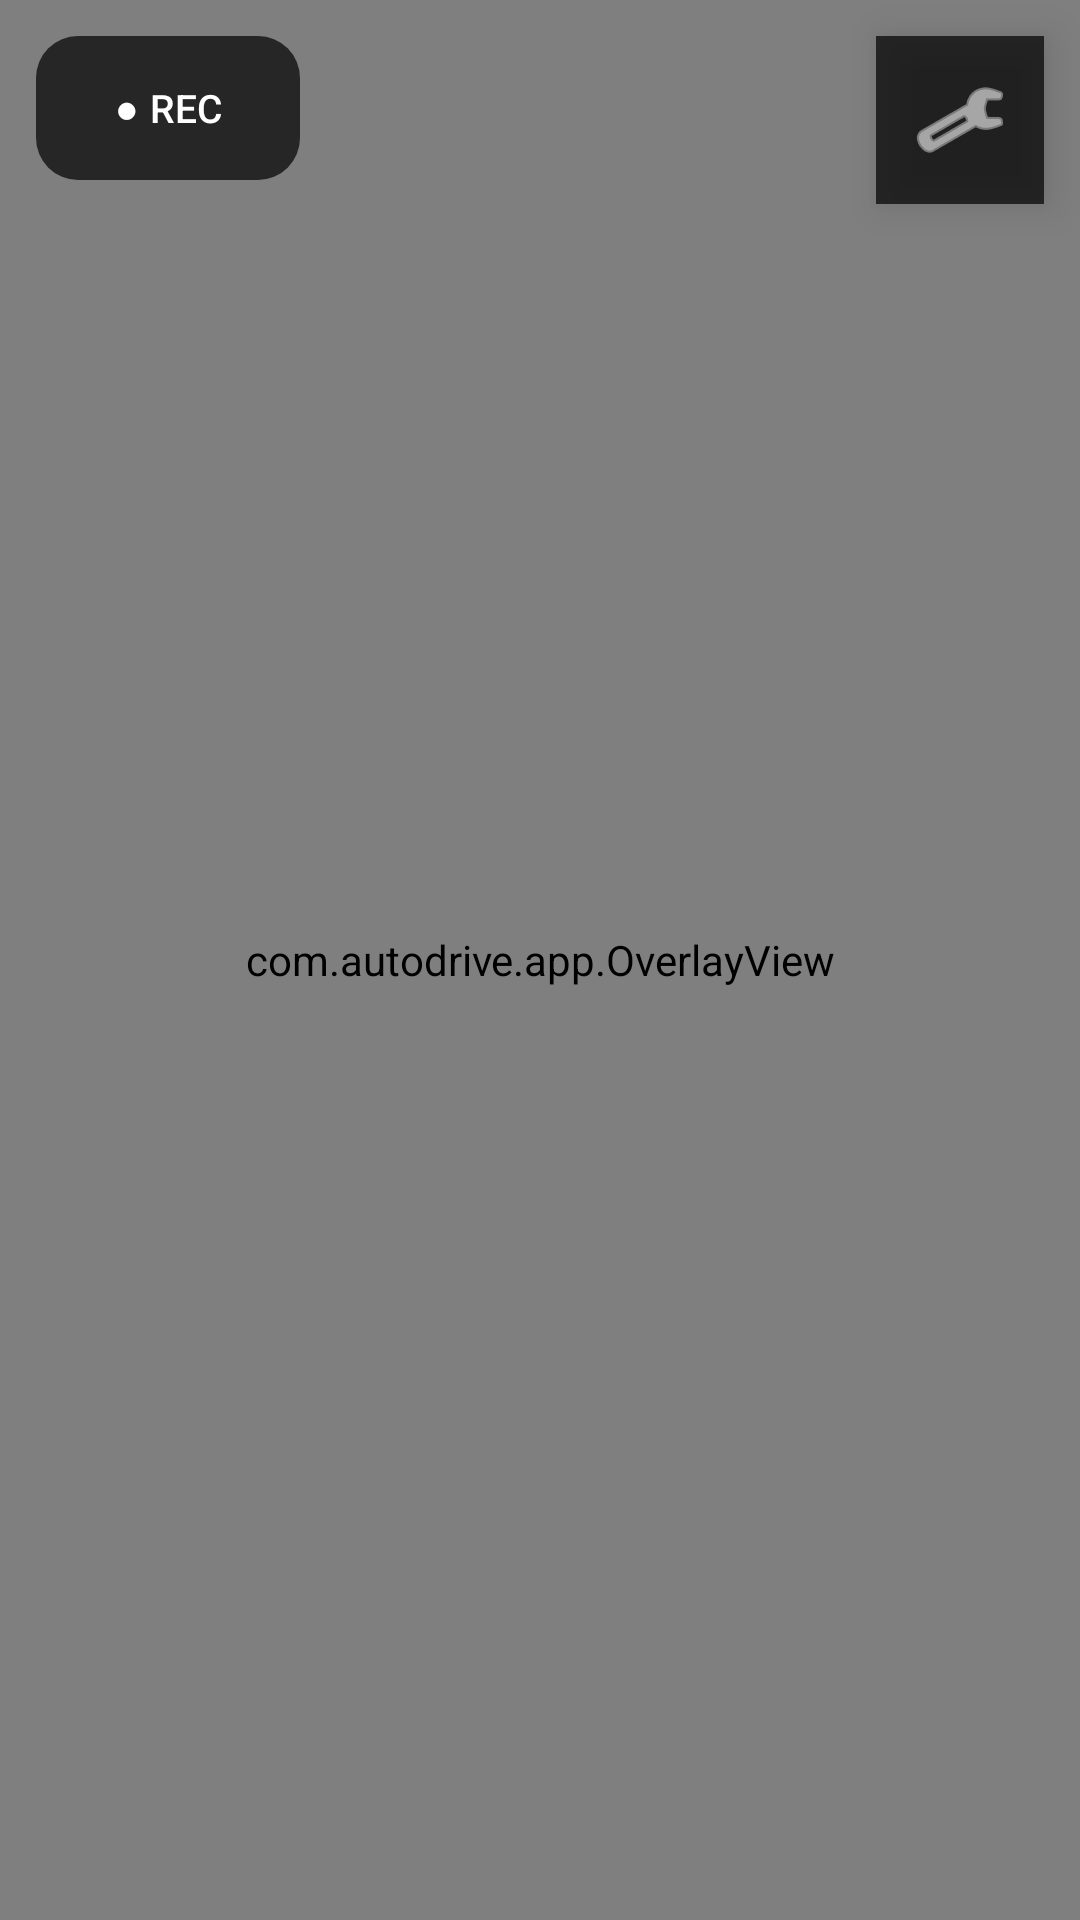

Locate icon controls on the screen. Image size 1080px×1920px, boxes as (x1, y1, x2, y2).
ตั้งค่า: (876, 36, 1044, 204)
